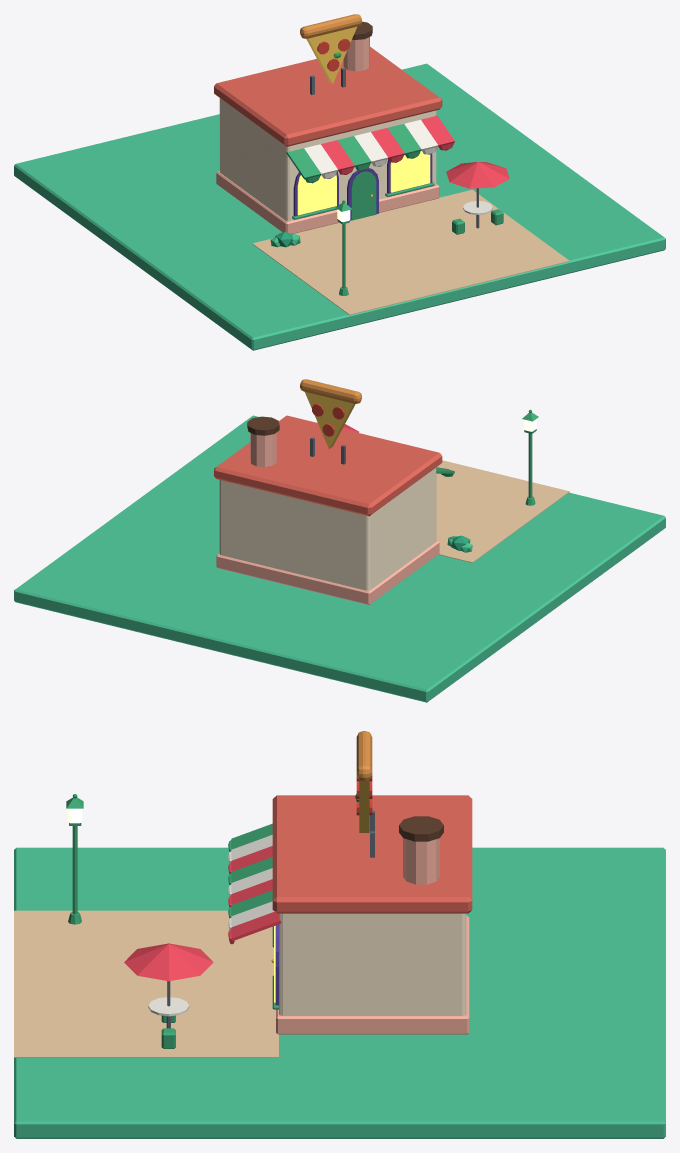
File: bld_pizzeria.glb
3 views of the same model, one above another, from view 1: azimuth 30°, elevation 25°; view 2: azimuth 150°, elevation 25°; view 3: azimuth 270°, elevation 25° (orthographic). The views are drawn at different scales.
Parts seen in each view (by area): view 1: bld_pizzeria; view 2: bld_pizzeria; view 3: bld_pizzeria.
Boxes of the visible parts, bbox=[...] form: bld_pizzeria: bbox=[14, 14, 665, 350]; bld_pizzeria: bbox=[14, 379, 665, 702]; bld_pizzeria: bbox=[14, 731, 665, 1138].
Bounding box in the file's own units: 16 × 6.87 × 16.
